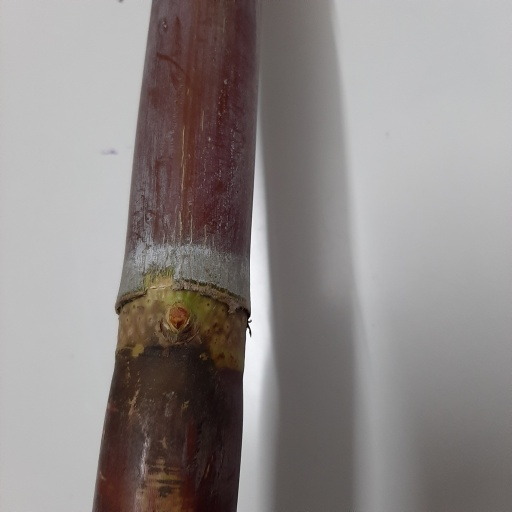Damage_Bud: (167, 304, 191, 335)
